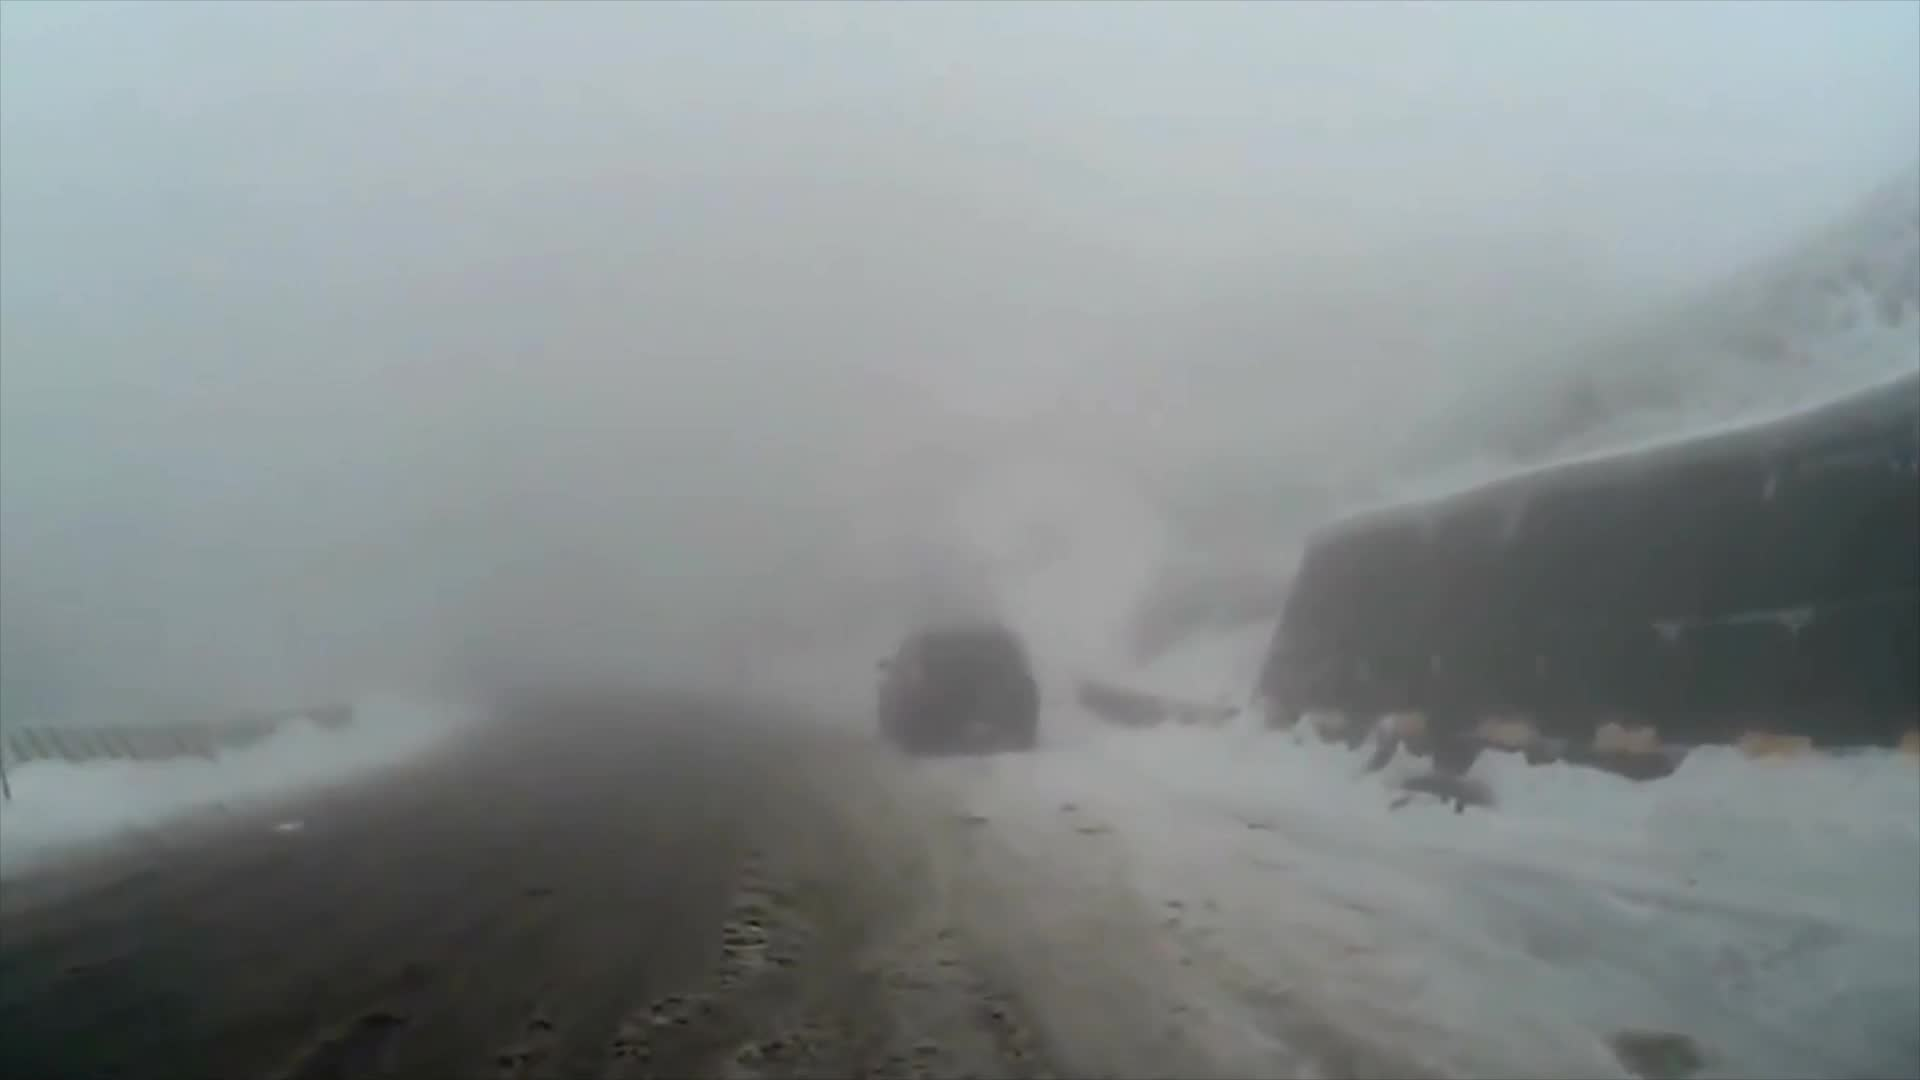vehicle: (873, 613, 1040, 754)
